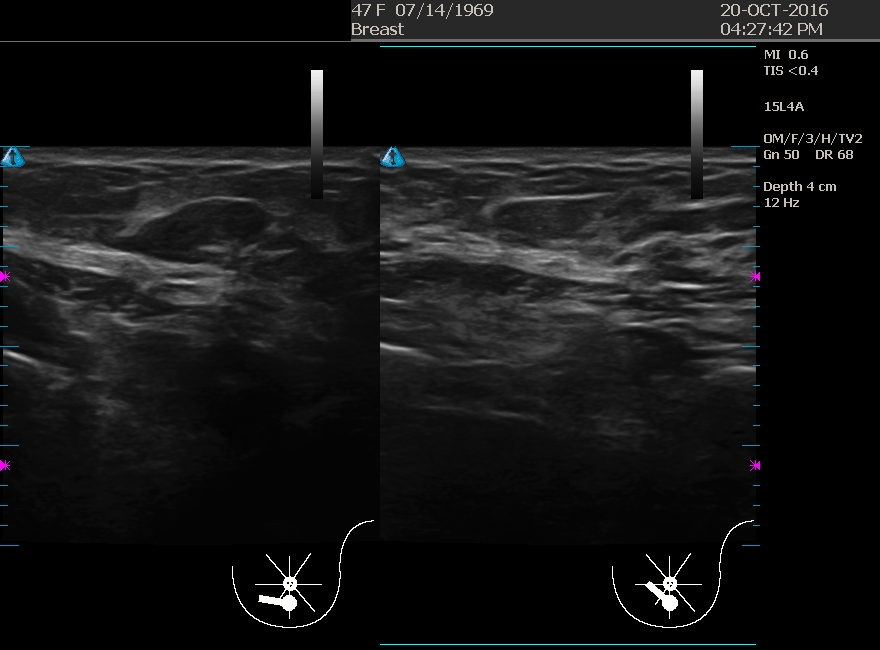Benign: (80, 155, 280, 355), (450, 170, 650, 370)
